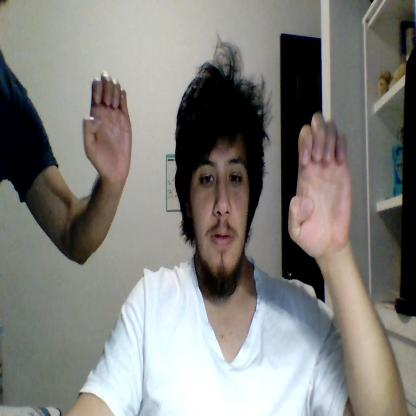E: (288, 112, 352, 257), (82, 73, 132, 181)
